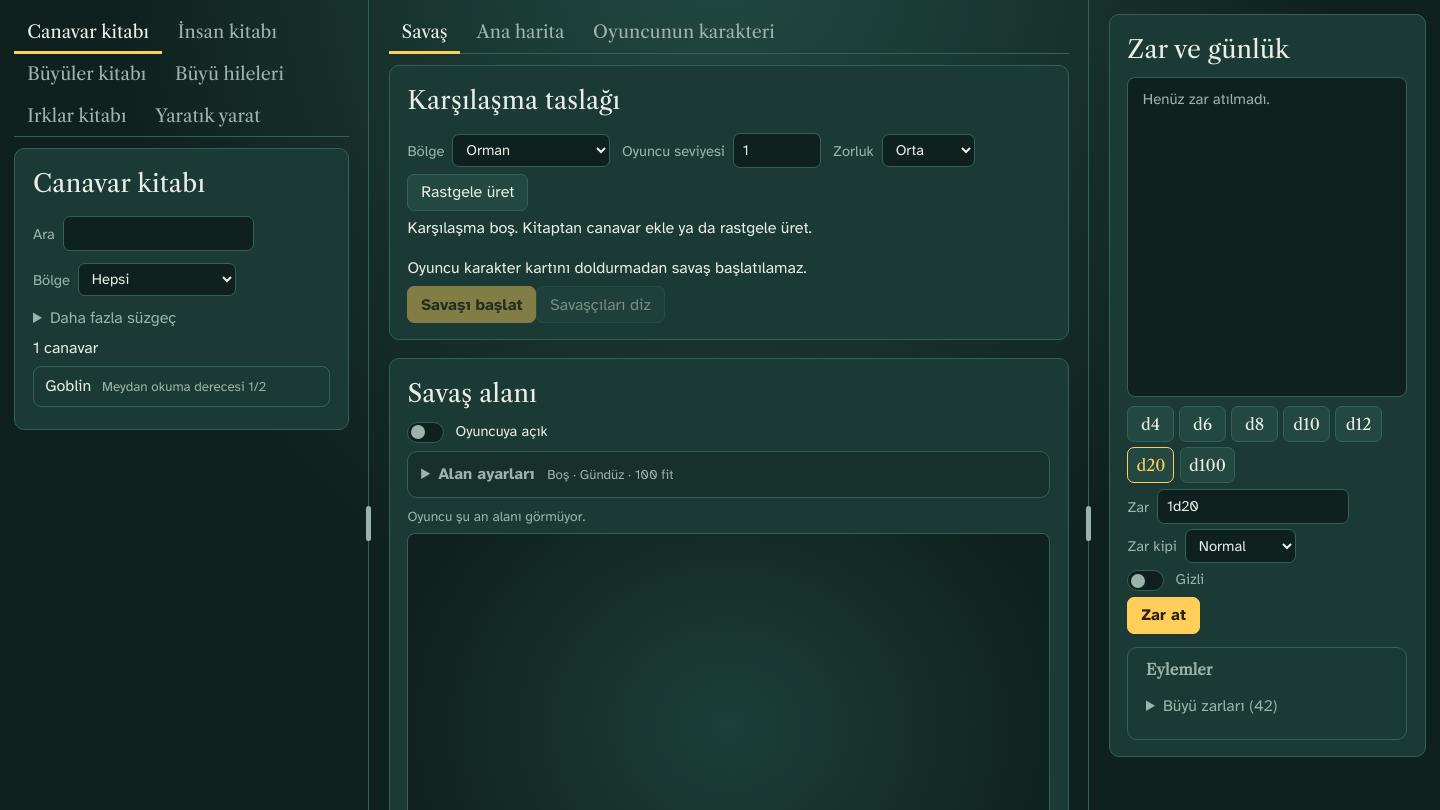
insan kitabı ayrı sekmedir; canavar kitabında insanlar, insan kitabında canavarlar görünmez
Check: the button "Goblin Meydan okuma derecesi 1/2" is shown, box [34,367,329,406]
Check: the text "Yağmacı" is not shown
Click the tab "İnsan kitabı" at point(227, 34), box [165,14,290,54]
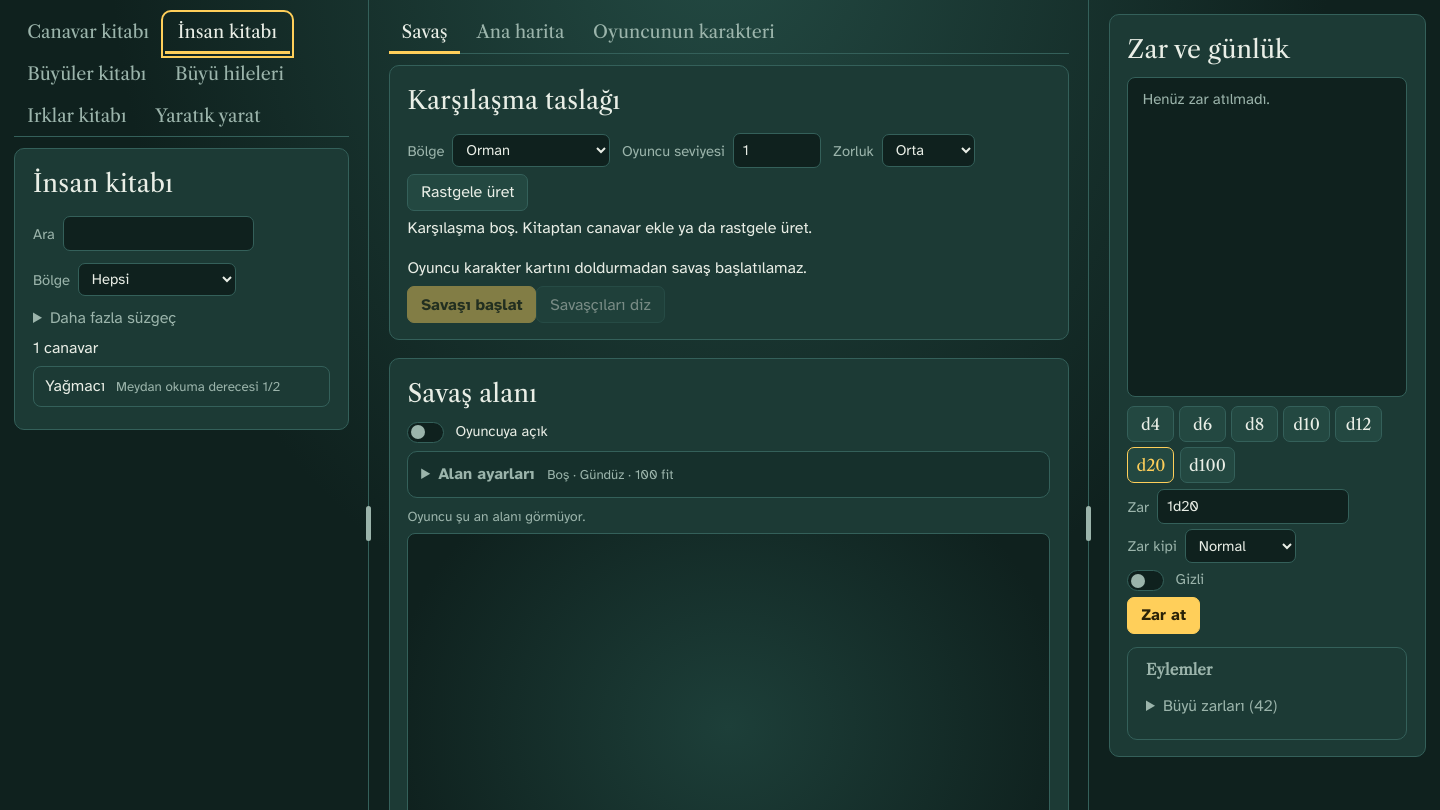
Check: the button "Yağmacı Meydan okuma derecesi 1/2" is shown, box [34,367,329,406]
Check: the button "Goblin" is gone
Check: the element "İnsan kitabı" is shown, box [14,148,349,430]
